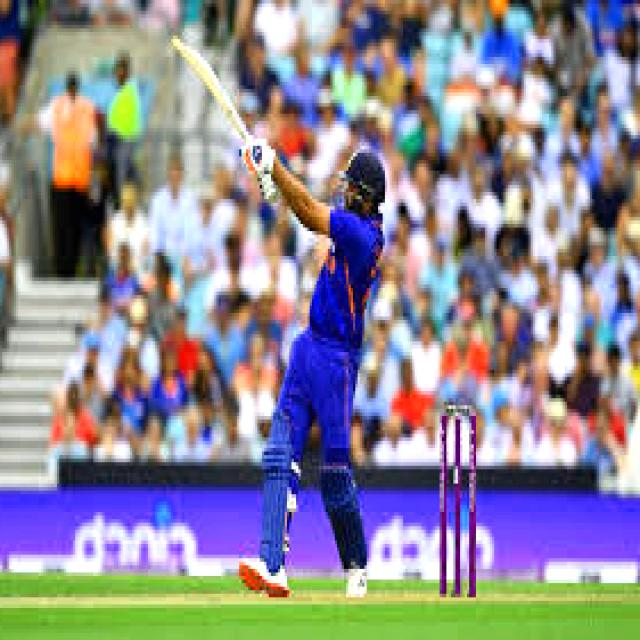toe: (165, 31, 192, 55)
